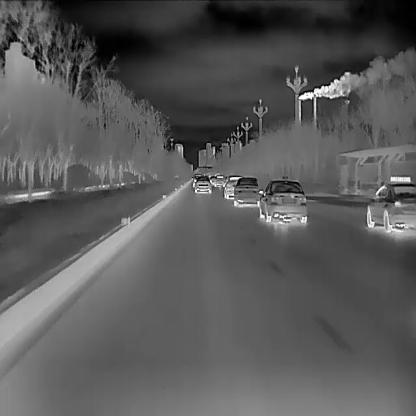car: (366, 174, 416, 234), (260, 179, 307, 223), (234, 177, 260, 207), (223, 175, 245, 198), (194, 176, 211, 194), (213, 175, 224, 187)
